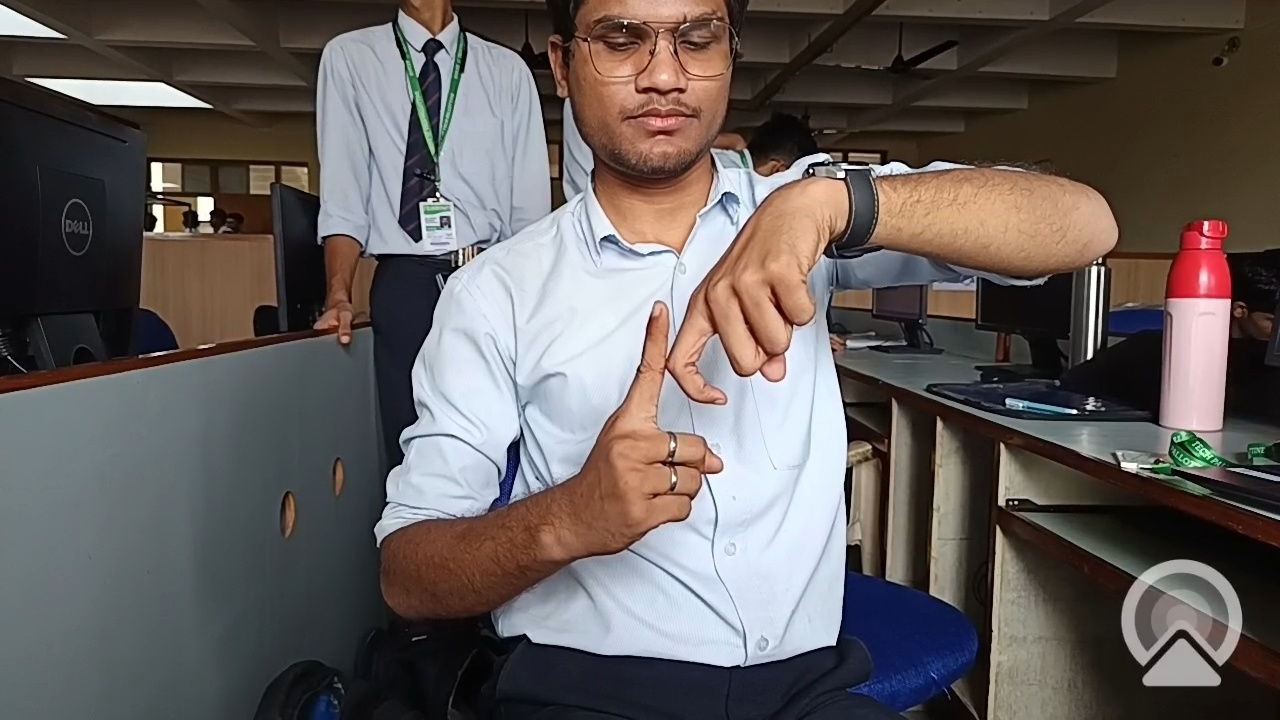K: (557, 177, 879, 609)
